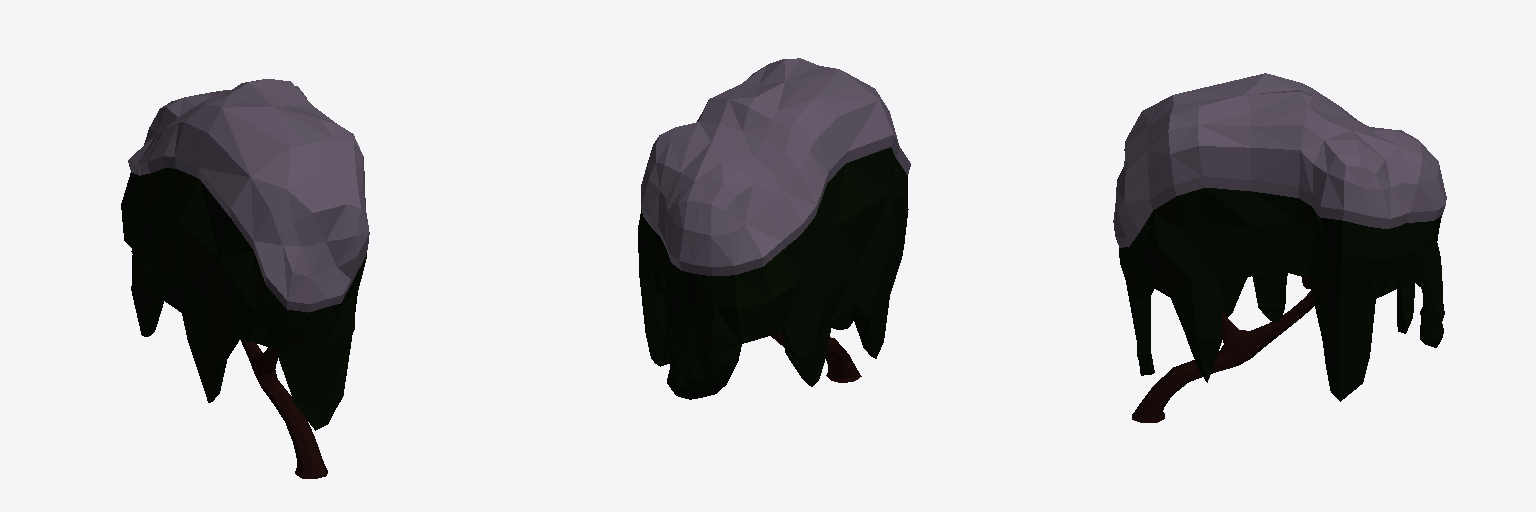
File: Willow_Snow_2.obj
3 views of the same model, side by side, from view 1: azimuth 30°, elevation 25°; view 2: azimuth 150°, elevation 25°; view 3: azimuth 270°, elevation 25° (orthographic).
Visible parts, largest first — view 1: Willow_Snow_2_Cube.144; view 2: Willow_Snow_2_Cube.144; view 3: Willow_Snow_2_Cube.144.
Part boxes in pixels (bbox=[...]): Willow_Snow_2_Cube.144: bbox=[121, 79, 369, 478]; Willow_Snow_2_Cube.144: bbox=[638, 58, 910, 399]; Willow_Snow_2_Cube.144: bbox=[1113, 73, 1446, 422].
Size of the model in its own units: 1.96 by 3.46 by 3.16.